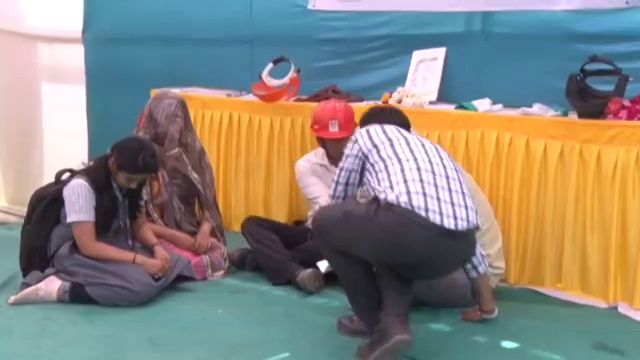helmet: (306, 95, 367, 140)
helmet_off: (99, 134, 159, 194), (140, 94, 194, 154), (356, 109, 414, 138)
helmet_on: (308, 99, 359, 164)
person: (310, 107, 484, 360), (7, 136, 188, 310), (233, 100, 365, 298), (126, 83, 227, 282), (408, 166, 509, 305)
